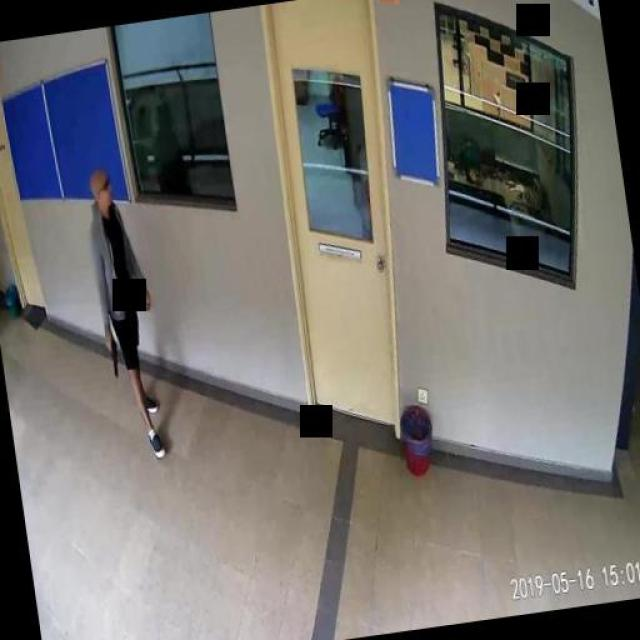gun: (104, 335, 120, 376)
